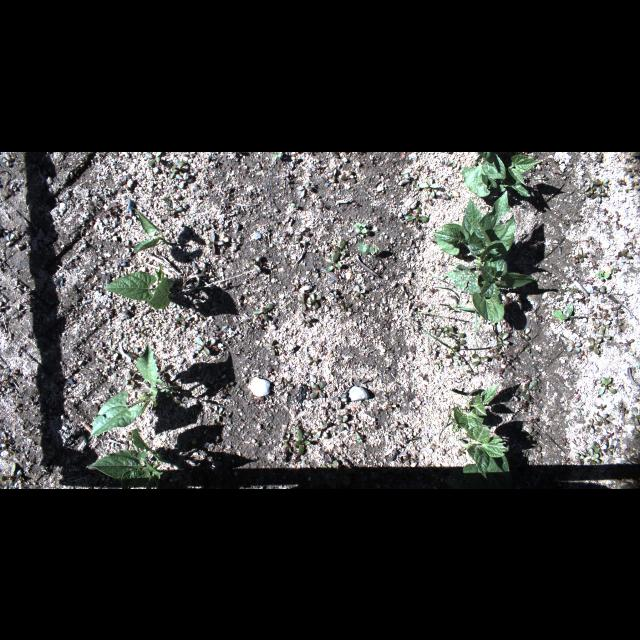crop: (432, 189, 538, 321), (88, 342, 166, 440), (451, 382, 513, 488), (84, 428, 170, 488), (462, 152, 544, 196), (102, 267, 174, 309), (128, 204, 178, 252)
weed: (294, 428, 310, 456), (418, 176, 440, 196), (404, 205, 428, 221), (552, 302, 572, 320), (195, 336, 215, 354), (329, 238, 345, 260), (206, 232, 222, 254), (598, 376, 616, 394), (358, 242, 378, 258), (253, 303, 273, 319), (584, 447, 600, 467), (310, 381, 326, 399), (586, 336, 602, 354), (174, 172, 194, 186), (524, 380, 538, 400), (332, 393, 348, 409), (590, 186, 606, 202), (592, 177, 608, 193), (170, 160, 184, 178), (298, 293, 312, 311), (315, 420, 329, 438), (430, 323, 448, 337), (145, 151, 161, 165), (325, 258, 341, 272), (472, 352, 488, 366), (496, 332, 510, 348), (618, 246, 632, 262), (165, 202, 183, 214), (446, 324, 464, 336), (629, 406, 639, 426), (308, 292, 320, 308), (336, 414, 348, 430), (578, 184, 590, 200), (590, 444, 606, 456), (354, 221, 368, 233), (596, 268, 610, 280), (587, 418, 599, 432), (452, 339, 466, 351), (568, 341, 582, 352), (588, 154, 602, 164), (577, 248, 587, 262), (520, 326, 530, 339), (598, 414, 610, 424), (426, 344, 438, 354)
